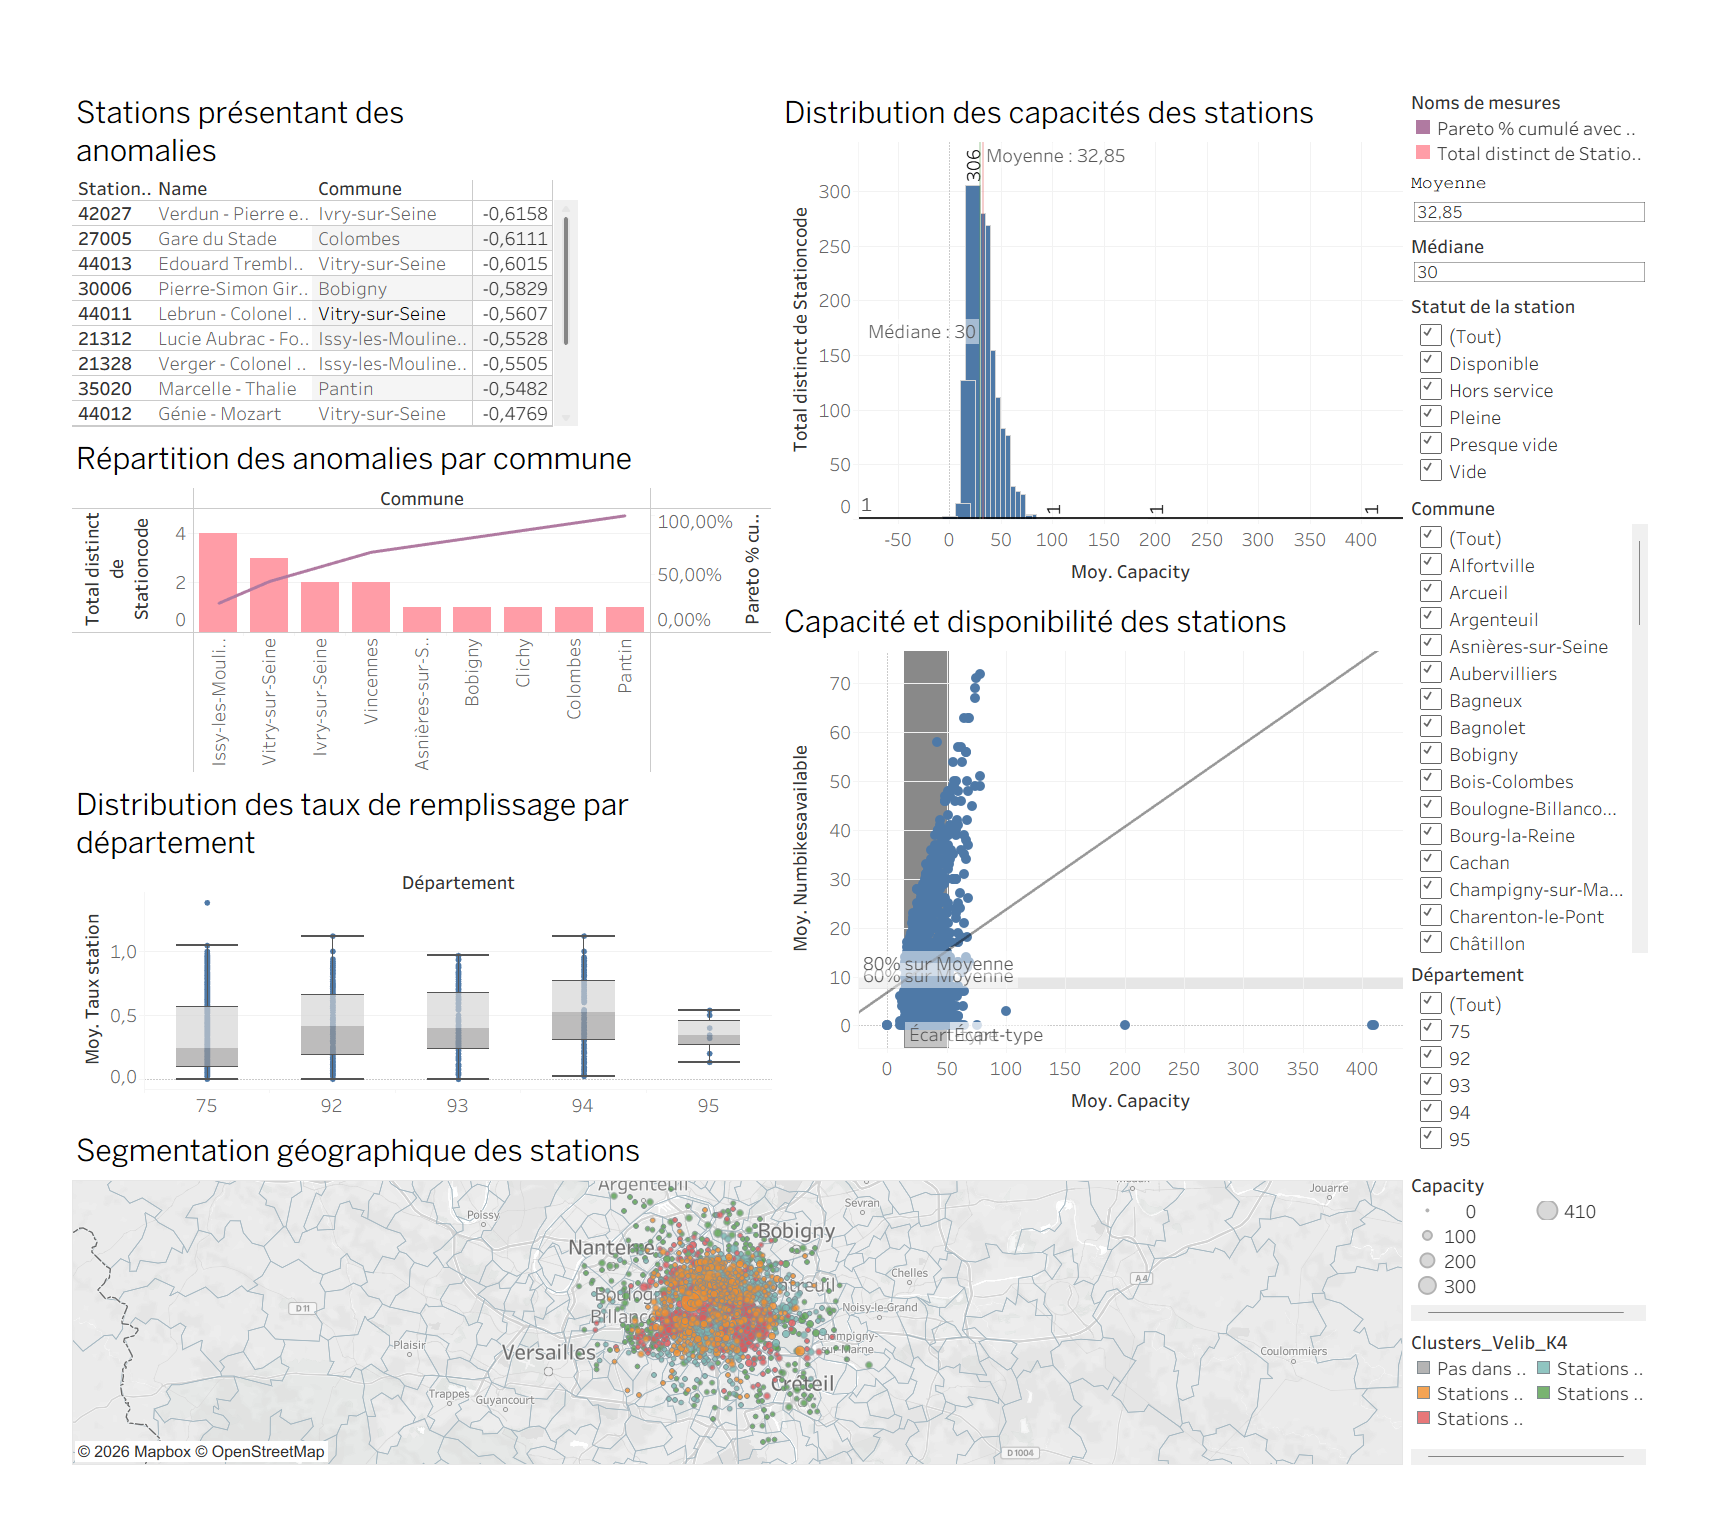

The page's visual inventory and layout, read from the dashboard file:
{"tool":"tableau","page":{"name":"DB03 — Analyse statistique, anomalies et segmentation","canvas":[1600,1400],"ordinal":2},"visuals":[{"type":"worksheet","title":"F09_Anomalies","mark":"Automatic","rows":["stationcode","name","commune"],"box":[8,8,708,346.2]},{"type":"worksheet","title":"F10_Histogramme_References","mark":"Bar","rows":["stationcode"],"cols":["capacity"],"box":[716,8,631,509]},{"type":"legend","title":"F09_Pareto","param":"[federated.0wbndu419myje41cqwui41aiyuwq].[:Measure Names]","box":[1347,8,245,84]},{"type":"parameter","param":"[Parameters].[Paramètre 1854385582751759]","box":[1347,92,245,60]},{"type":"parameter","param":"[Parameters].[Paramètre 1854385583321104]","box":[1347,152,245,60]},{"type":"filter","title":"F11_Carte_clusters","param":"[federated.0wbndu419myje41cqwui41aiyuwq].[none:Calculation_0956084298629127:nk]","box":[1347,212,245,202]},{"type":"worksheet","title":"F09_Pareto","mark":"Bar","rows":["stationcode"],"cols":["commune"],"box":[8,354.2,708,346.2]},{"type":"filter","title":"F11_Carte_clusters","param":"[federated.0wbndu419myje41cqwui41aiyuwq].[none:commune:nk]","box":[1347,414,245,466]},{"type":"worksheet","title":"F10_Nuage","mark":"Circle","rows":["numbikesavailable"],"cols":["capacity"],"box":[716,517,631,528.8]},{"type":"worksheet","title":"F10_Boxplot","mark":"Line","rows":["Calculation_1854385589239826"],"cols":["Calculation_0956084296425478"],"box":[8,700.5,708,345.3]},{"type":"filter","title":"F11_Carte_clusters","param":"[federated.0wbndu419myje41cqwui41aiyuwq].[none:Calculation_0956084296425478:nk]","box":[1347,880,245,211]},{"type":"worksheet","title":"F11_Carte_clusters","mark":"Circle","rows":["lat"],"cols":["lon"],"box":[8,1045.8,1339,346.2]},{"type":"legend","title":"F11_Carte_clusters","param":"[federated.0wbndu419myje41cqwui41aiyuwq].[sum:capacity:qk]","box":[1347,1091,245,157]},{"type":"legend","title":"F11_Carte_clusters","param":"[federated.0wbndu419myje41cqwui41aiyuwq].[Stationcode (clusters) (1)]","box":[1347,1248,245,144]}]}

Visuals, with their boxes in screenshot pixels (x1, y1, x2, y2), scaled from the page's 1600x1400 canvas onto the 1731x1516 screenshot:
"F09_Anomalies" worksheet: locate(9, 9, 775, 384)
"F10_Histogramme_References" worksheet (Bar marks): locate(775, 9, 1457, 560)
"F09_Pareto" legend: locate(1457, 9, 1722, 100)
parameter: locate(1457, 100, 1722, 165)
parameter: locate(1457, 165, 1722, 230)
"F11_Carte_clusters" filter: locate(1457, 230, 1722, 448)
"F09_Pareto" worksheet (Bar marks): locate(9, 384, 775, 758)
"F11_Carte_clusters" filter: locate(1457, 448, 1722, 953)
"F10_Nuage" worksheet (Circle marks): locate(775, 560, 1457, 1132)
"F10_Boxplot" worksheet (Line marks): locate(9, 759, 775, 1132)
"F11_Carte_clusters" filter: locate(1457, 953, 1722, 1181)
"F11_Carte_clusters" worksheet (Circle marks): locate(9, 1132, 1457, 1507)
"F11_Carte_clusters" legend: locate(1457, 1181, 1722, 1351)
"F11_Carte_clusters" legend: locate(1457, 1351, 1722, 1507)
